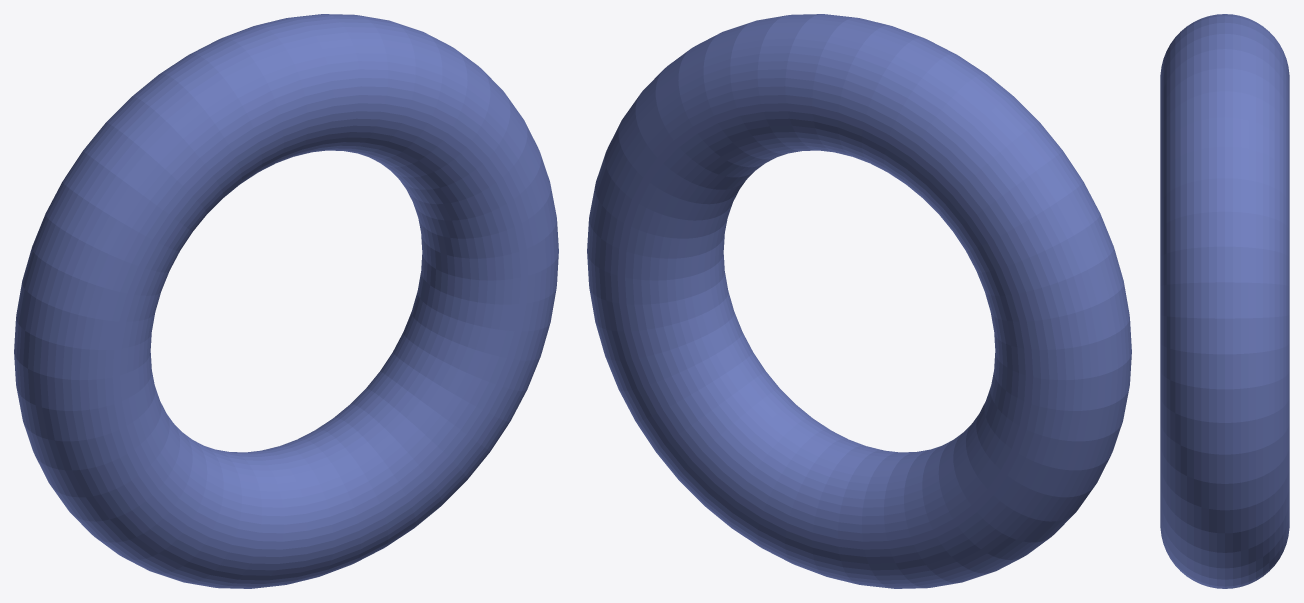
3 renders of one model, left to right at view 1: azimuth 30°, elevation 25°; view 2: azimuth 150°, elevation 25°; view 3: azimuth 270°, elevation 25°, orthographic. The views are drawn at different scales.
Parts seen in each view (by area): view 1: world; view 2: world; view 3: world.
Boxes of the visible parts, left/top/right/bottom form: world: left=14, top=14, right=558, bottom=588; world: left=587, top=14, right=1131, bottom=588; world: left=1160, top=14, right=1289, bottom=588.
Size of the model in its own units: 17.2 by 17.17 by 3.86.
